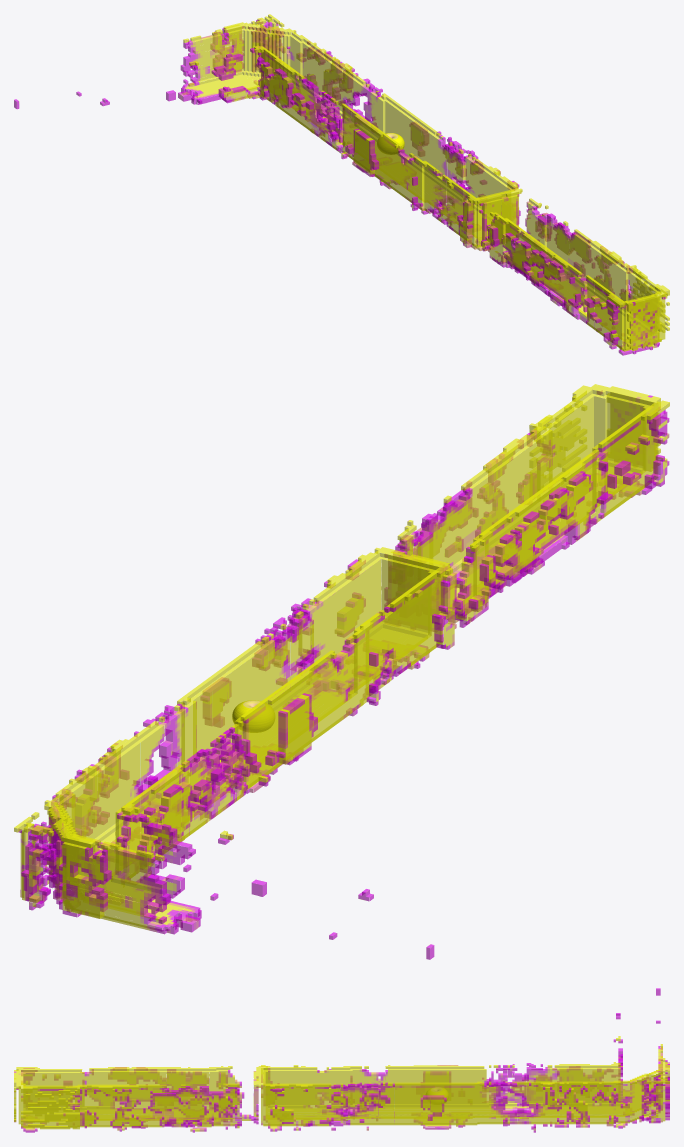
File: test_chamber_spec_soft_refr.glb
3 renders of one model, top to bottom at view 1: azimuth 30°, elevation 25°; view 2: azimuth 150°, elevation 25°; view 3: azimuth 270°, elevation 25°, orthographic. The views are drawn at different scales.
Visible parts, largest first — view 1: chunk:0.032, chunk:3.027, chunk:1.028, chunk:4.017, chunk:2.027, chunk:5.016; view 2: chunk:0.032, chunk:4.017, chunk:1.028, chunk:3.027, chunk:5.016, chunk:2.027, Emitter-0 2232.000000MHz 2.000000w.032; view 3: chunk:3.027, chunk:4.017, chunk:0.032, chunk:1.028, chunk:5.016, chunk:2.027.
Boxes of the visible parts, box(x1,y1,x2,y2) form: chunk:0.032: box(14, 21, 432, 202); chunk:3.027: box(256, 14, 457, 192); chunk:1.028: box(409, 153, 609, 331); chunk:4.017: box(435, 142, 641, 322); chunk:2.027: box(587, 281, 642, 355); chunk:5.016: box(615, 270, 669, 351); chunk:0.032: box(36, 650, 434, 959); chunk:4.017: box(272, 418, 587, 700); chunk:1.028: box(314, 434, 626, 716); chunk:3.027: box(14, 622, 296, 910); chunk:5.016: box(541, 384, 637, 498); chunk:2.027: box(590, 392, 669, 511); Emitter-0 2232.000000MHz 2.000000w.032: box(232, 700, 274, 732); chunk:3.027: box(369, 1075, 669, 1132); chunk:4.017: box(68, 1075, 368, 1132); chunk:0.032: box(369, 988, 669, 1121); chunk:1.028: box(68, 1065, 368, 1121); chunk:5.016: box(14, 1075, 67, 1132); chunk:2.027: box(14, 1067, 67, 1119).
Size of the model in its own units: 11.6 by 2.2 by 27.9.
Materials: 7 (6 with a texture image).
